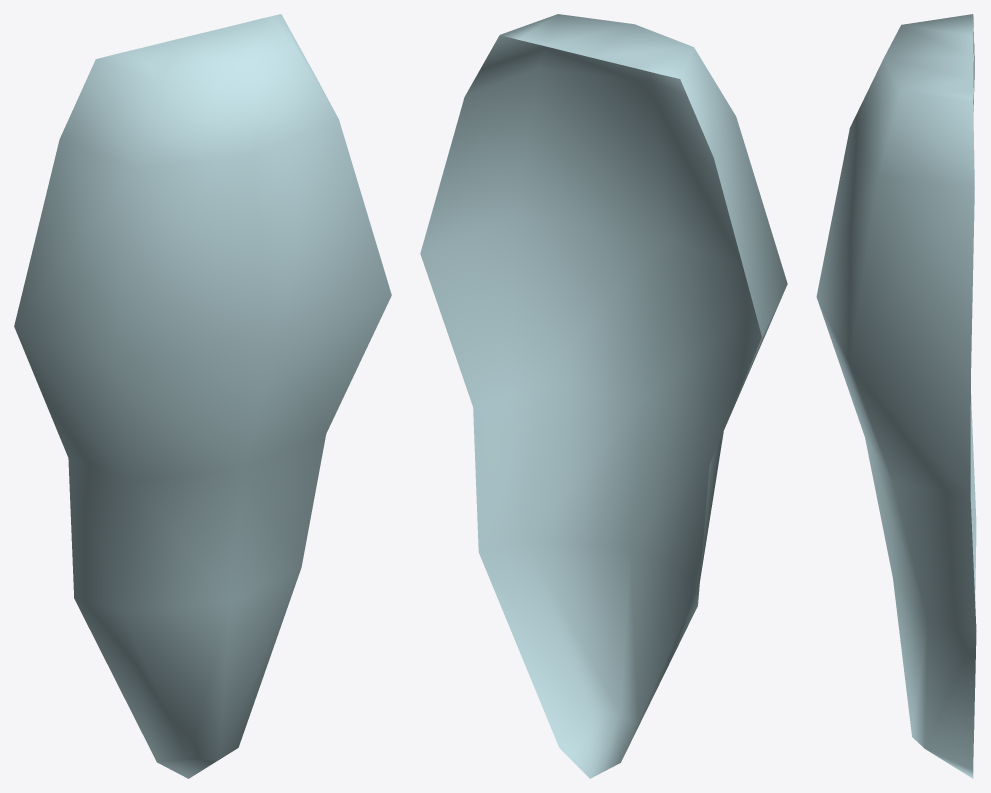
The model's file is Snow_Trim_Small_FrostyFields.fbx.
3 views of the same model, side by side, from view 1: azimuth 30°, elevation 25°; view 2: azimuth 150°, elevation 25°; view 3: azimuth 270°, elevation 25° (orthographic). The views are drawn at different scales.
Parts seen in each view (by area): view 1: Snow_Trim_Small_01; view 2: Snow_Trim_Small_01; view 3: Snow_Trim_Small_01.
Boxes of the visible parts, bbox=[...] form: Snow_Trim_Small_01: bbox=[14, 14, 391, 778]; Snow_Trim_Small_01: bbox=[420, 14, 787, 778]; Snow_Trim_Small_01: bbox=[816, 14, 976, 778].
Bounding box in the file's own units: 28.69 × 57.92 × 11.65.
